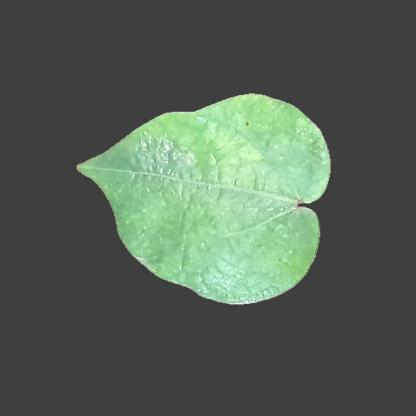healthy: (128, 140, 294, 248), (176, 213, 292, 287), (204, 105, 284, 155)
